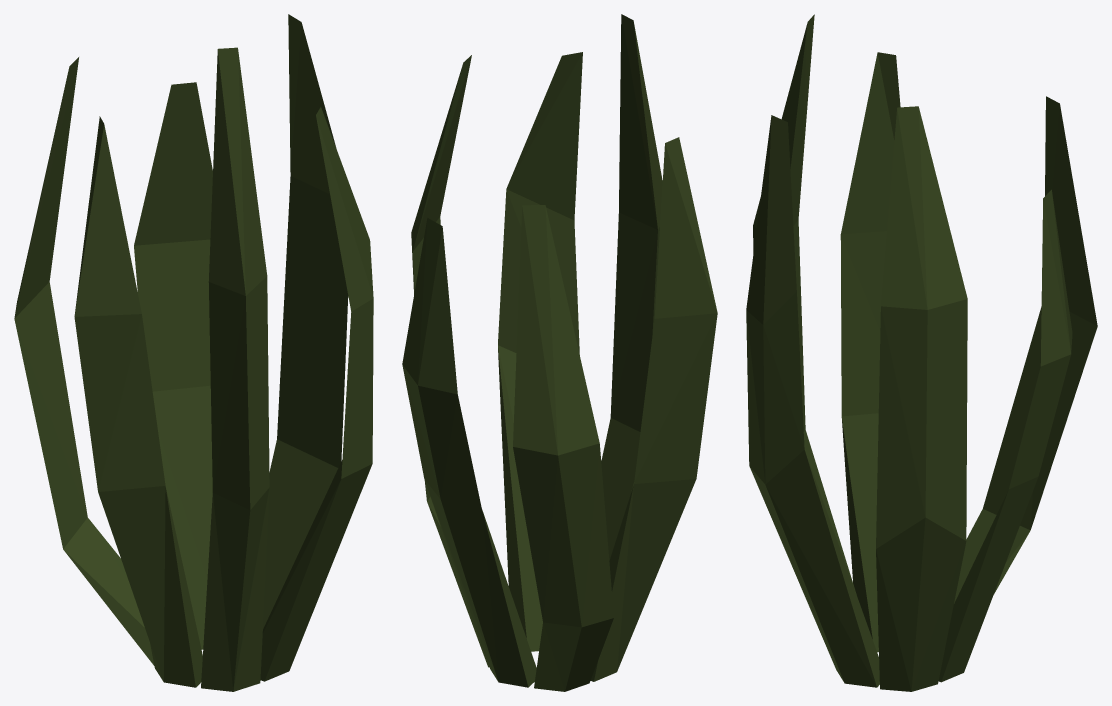
File: Plant_10.fbx
3 renders of one model, left to right at view 1: azimuth 30°, elevation 25°; view 2: azimuth 150°, elevation 25°; view 3: azimuth 270°, elevation 25°, orthographic. The views are drawn at different scales.
Visible parts, largest first — view 1: Plant_10; view 2: Plant_10; view 3: Plant_10.
Part boxes in pixels (bbox=[...]): Plant_10: bbox=[14, 14, 373, 691]; Plant_10: bbox=[402, 14, 717, 691]; Plant_10: bbox=[746, 14, 1097, 691].
Bounding box in the file's own units: 0.549 × 1.18 × 0.5987.
